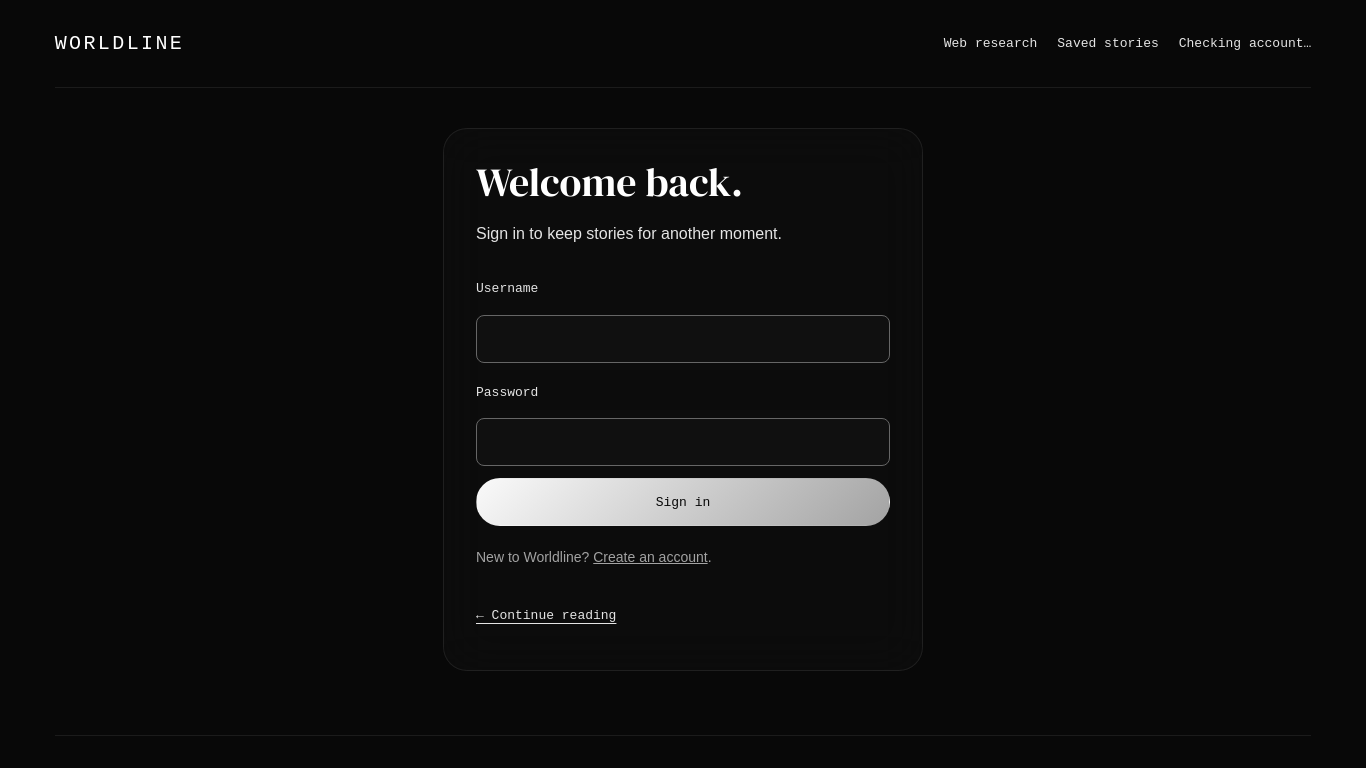
Test: signs in with CSRF, saves a story, and removes it from the saved list
This screenshot has width=1366, height=768.
Type "alice" into the field labelled "Username" at (683, 339), box [476, 315, 890, 363]
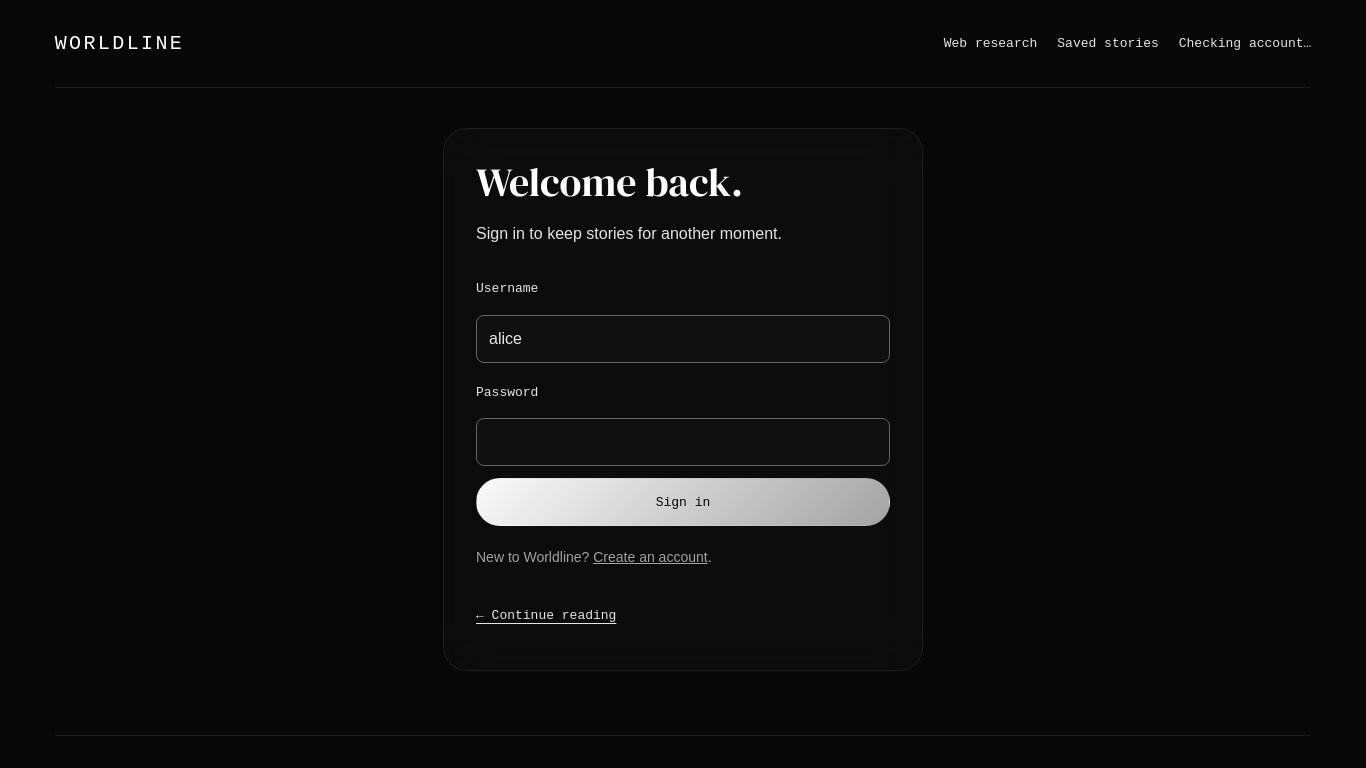
Type "test-only-password" into the password field labelled "Password" at (683, 442), box [476, 418, 890, 466]
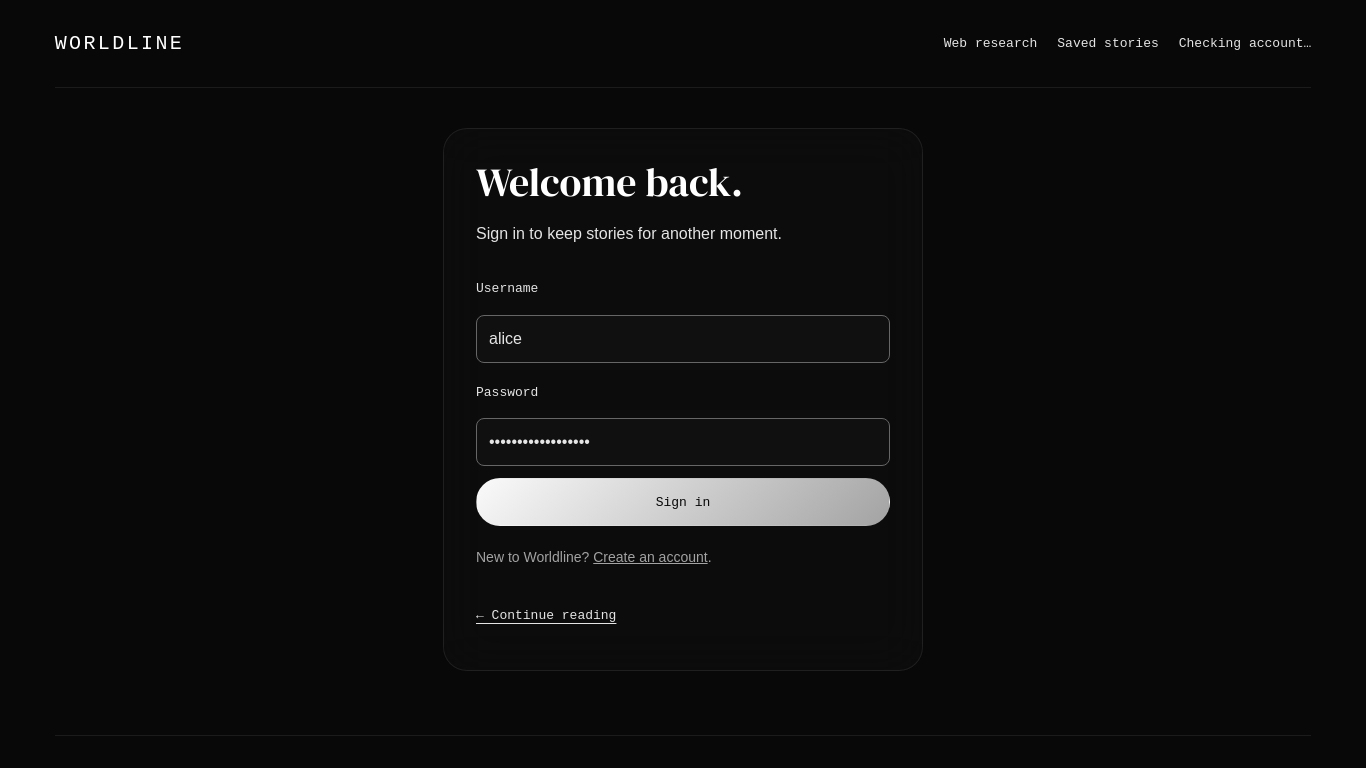
Submit the form labelled "Password", box [476, 271, 890, 526]
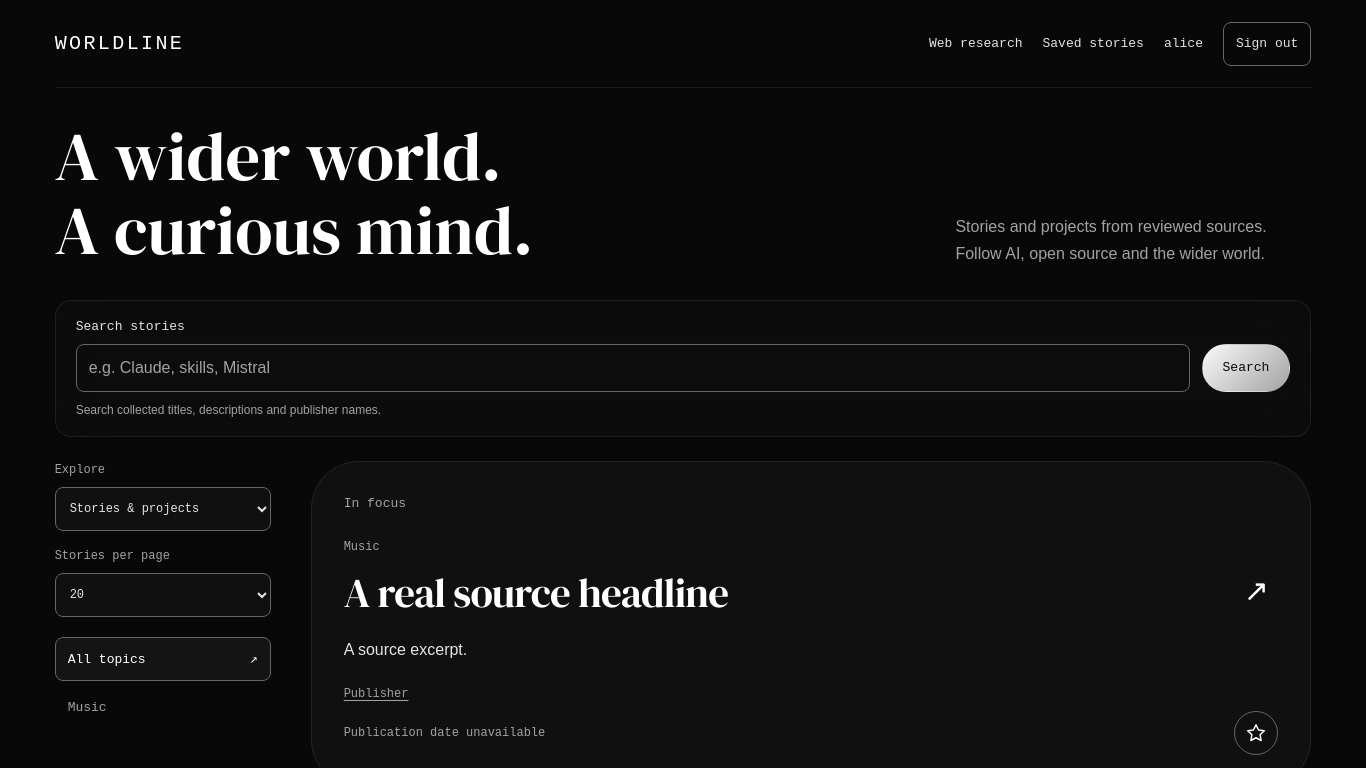
Click the button named "Save story" at (1256, 733), box [1234, 711, 1278, 755]
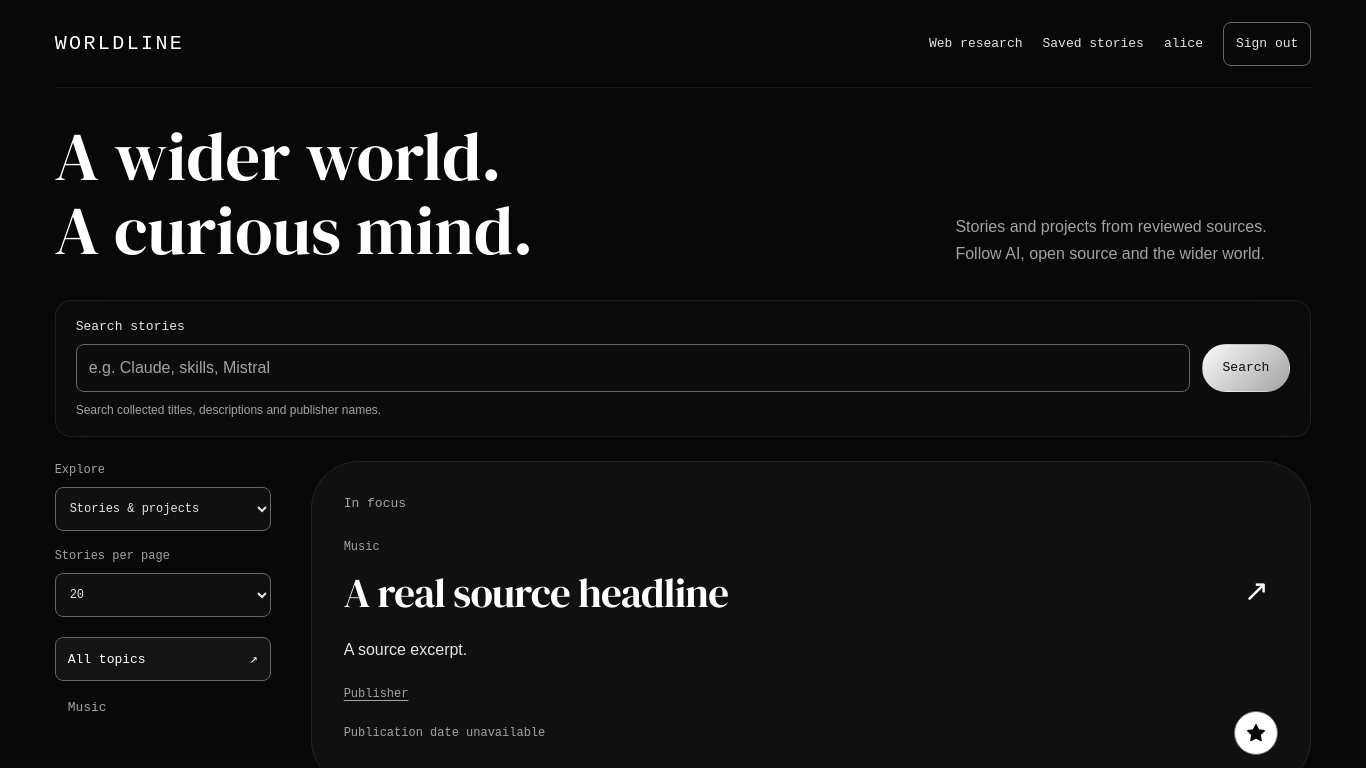
expect the button named "Remove bookmark" is shown: met, box [1234, 711, 1278, 755]
Click the link "Saved stories" at (1093, 43), box [1042, 36, 1144, 51]
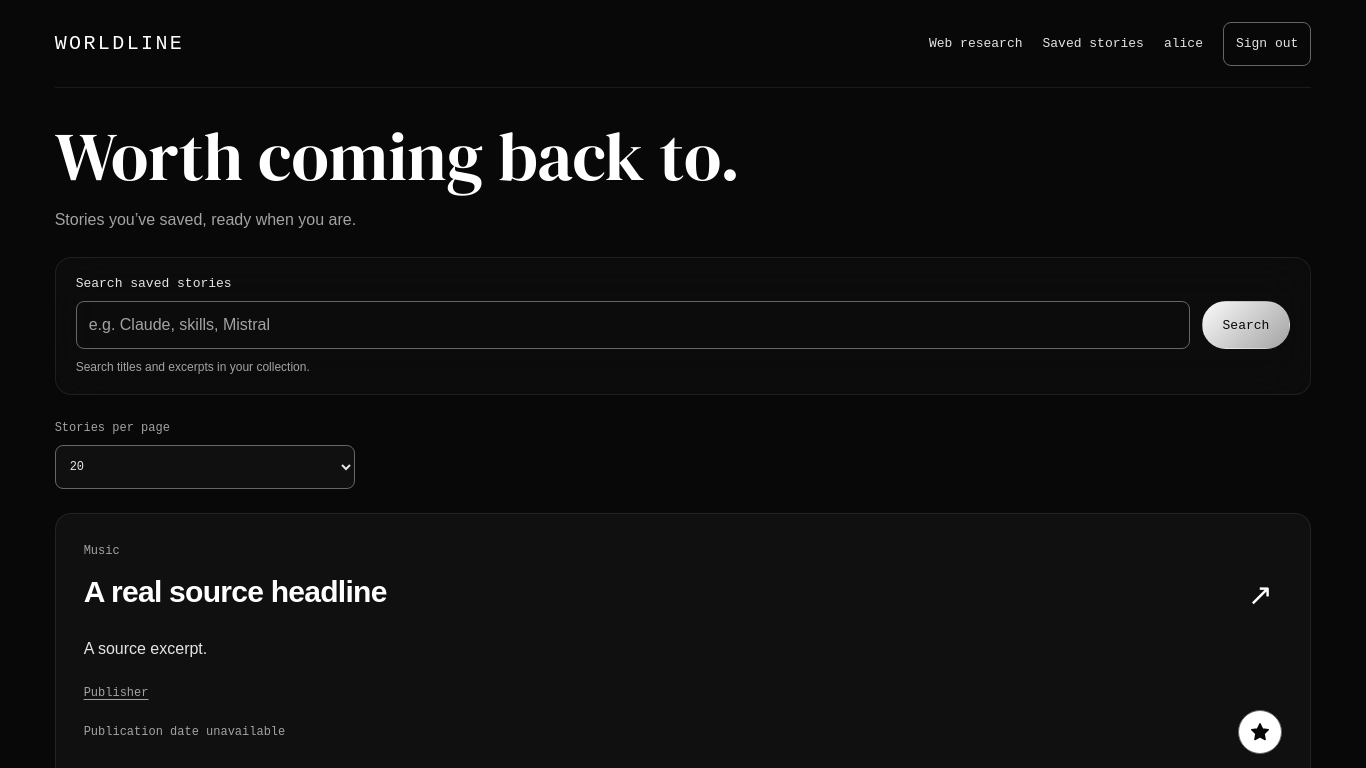
expect the heading "Worth coming back to." is shown: met, box [55, 109, 740, 203]
Click the button named "Remove bookmark" at (1260, 732), box [1238, 710, 1282, 754]
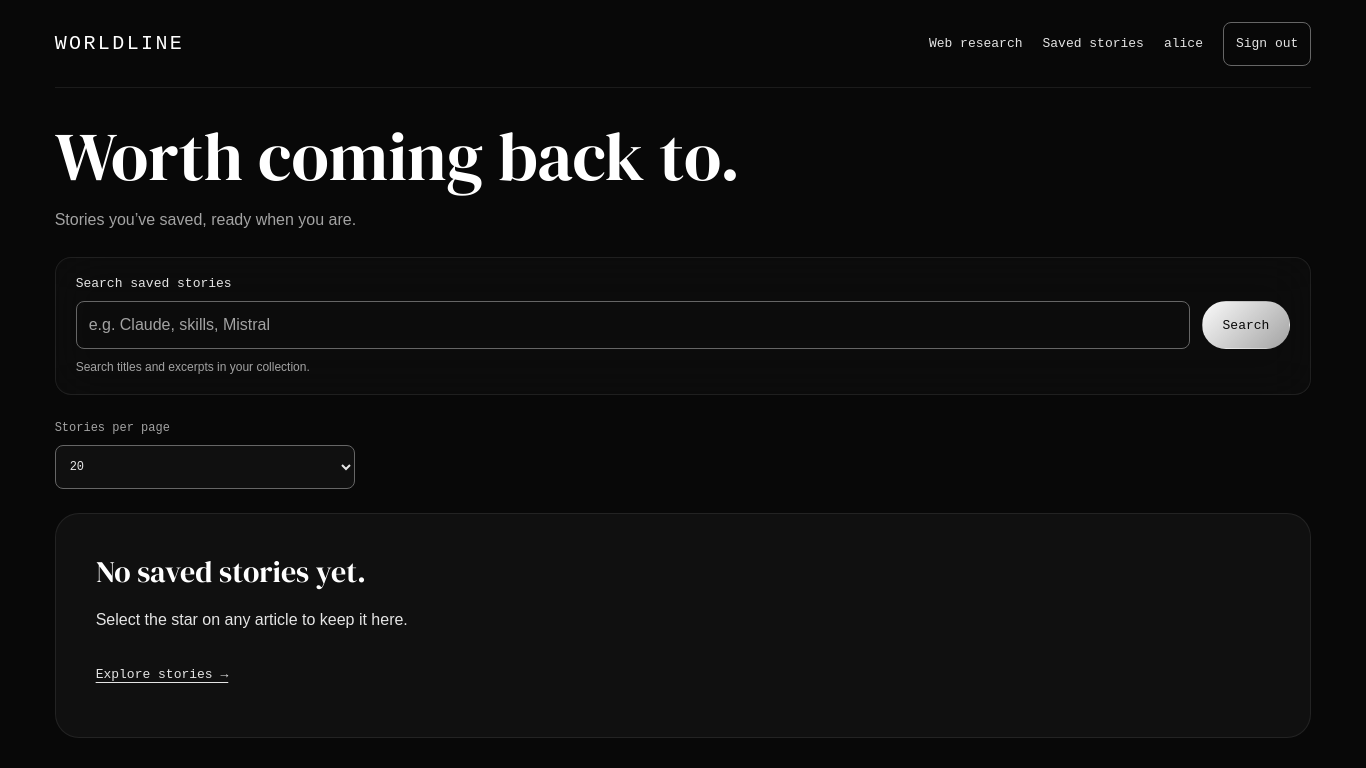
expect the heading "No saved stories yet." is shown: met, box [96, 551, 366, 592]
